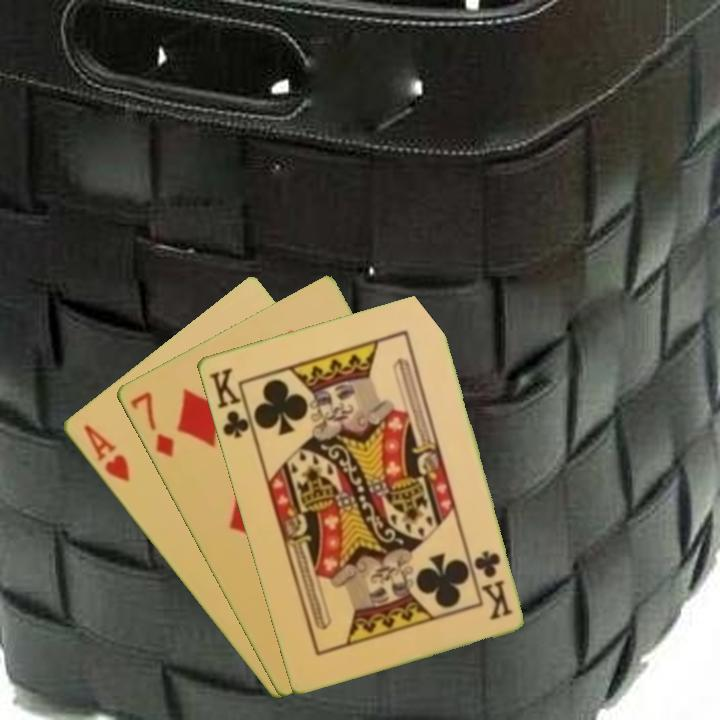7d: (126, 387, 177, 460)
Ah: (79, 420, 132, 485)
Kc: (205, 364, 256, 441), (471, 546, 515, 623)
